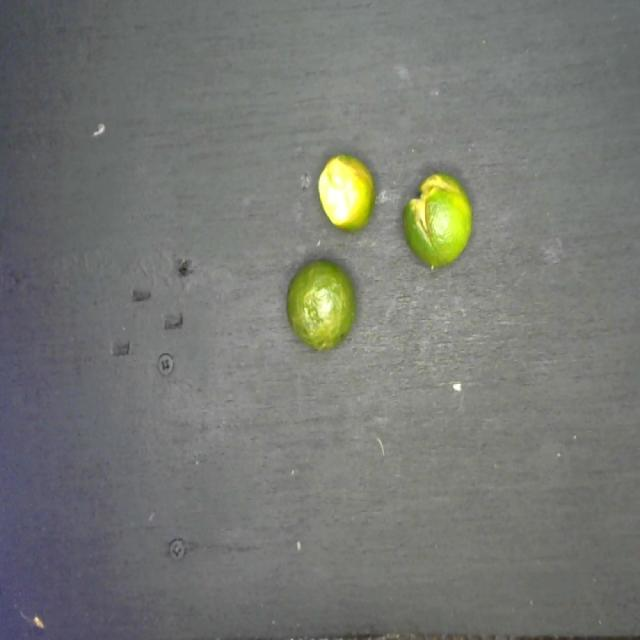biodegradable: (280, 143, 477, 352)
